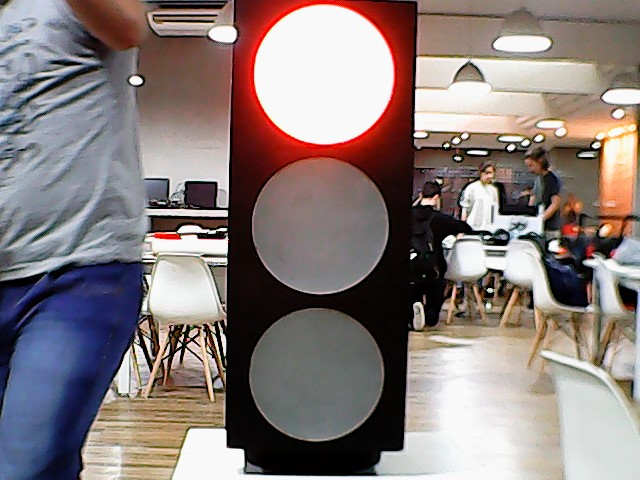vermelho: (227, 1, 421, 454)
